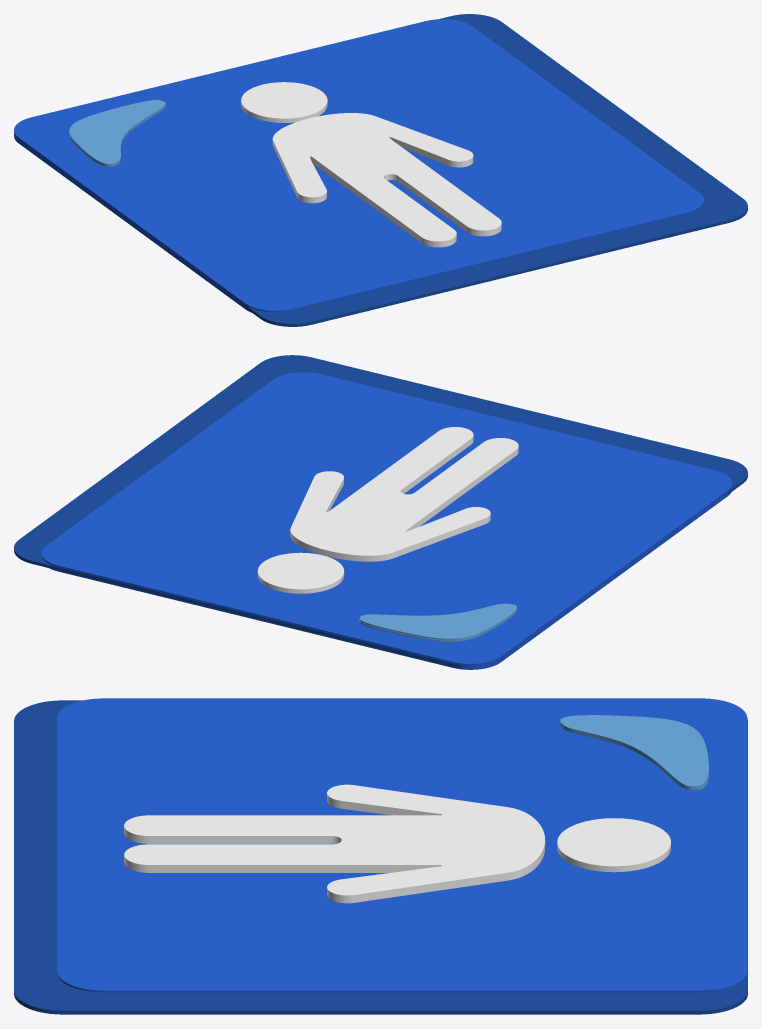
The model's file is emoji_u1f6b9.glb.
3 views of the same model, one above another, from view 1: azimuth 30°, elevation 25°; view 2: azimuth 150°, elevation 25°; view 3: azimuth 270°, elevation 25° (orthographic). The views are drawn at different scales.
Visible parts, largest first — view 1: emoji_u1f6b9; view 2: emoji_u1f6b9; view 3: emoji_u1f6b9.
Boxes of the visible parts, box(x1,y1,x2,y2) form: emoji_u1f6b9: box(14, 14, 747, 326); emoji_u1f6b9: box(14, 355, 747, 669); emoji_u1f6b9: box(14, 698, 747, 1014).
Size of the model in its own units: 0.0339 by 0.0012 by 0.0339.
